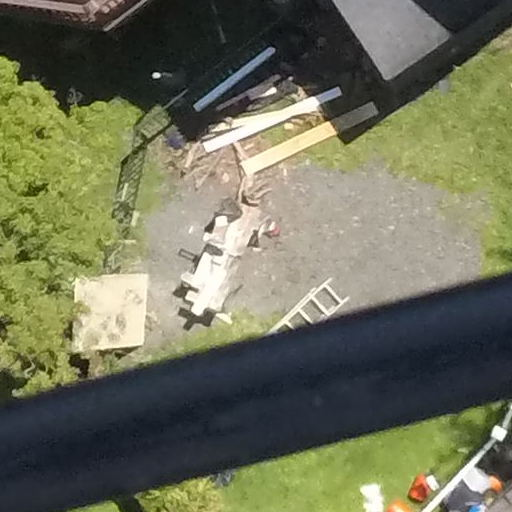bucket: (405, 469, 435, 504)
